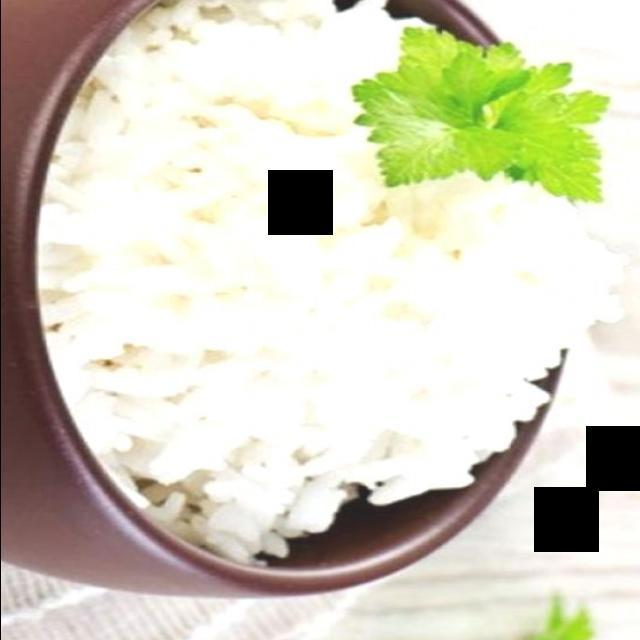rice: (36, 0, 626, 561)
